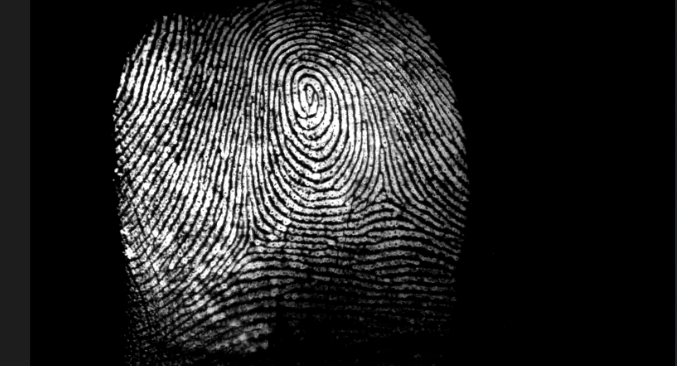nucelo: (291, 75, 322, 112)
verticilo: (373, 177, 401, 207), (239, 224, 265, 248)
